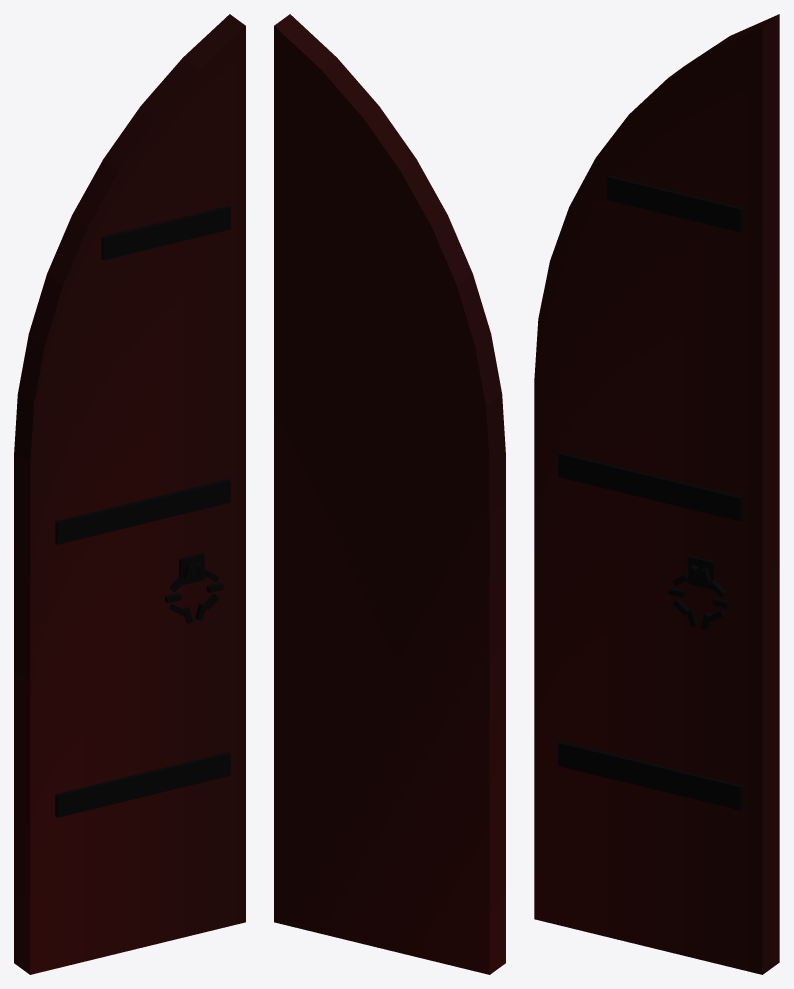
File: SilverbrookNorthridgeHouse6_Door1.fbx
3 renders of one model, left to right at view 1: azimuth 30°, elevation 25°; view 2: azimuth 150°, elevation 25°; view 3: azimuth 330°, elevation 25°, orthographic. The views are drawn at different scales.
Visible parts, largest first — view 1: SM_SBNorthridgeHouse6_Door1_Part; view 2: SM_SBNorthridgeHouse6_Door1_Part; view 3: SM_SBNorthridgeHouse6_Door1_Part.
Part boxes in pixels (x1,y1,x2,y2): SM_SBNorthridgeHouse6_Door1_Part: (14, 14, 245, 974); SM_SBNorthridgeHouse6_Door1_Part: (274, 14, 505, 974); SM_SBNorthridgeHouse6_Door1_Part: (534, 14, 779, 974).
Bounding box in the file's own units: 62 × 246 × 10.7.
